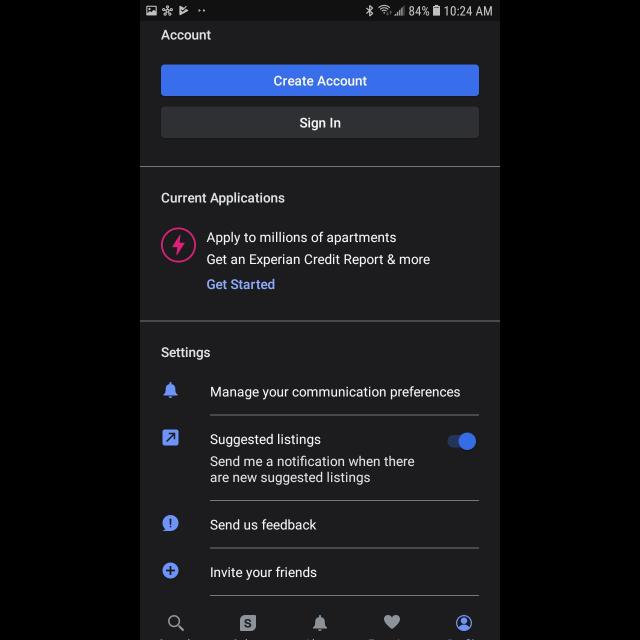icon: (168, 614, 185, 632), (456, 615, 472, 631), (384, 614, 400, 630), (163, 563, 179, 579), (163, 515, 179, 531), (163, 430, 179, 446), (313, 615, 327, 631), (164, 382, 178, 398)
image: (161, 228, 197, 264), (240, 614, 256, 632)
switch: (448, 432, 477, 450)
text: (210, 434, 414, 484), (206, 232, 430, 268), (211, 386, 461, 400), (162, 192, 284, 206), (211, 567, 317, 581), (211, 518, 317, 530), (208, 278, 274, 290), (162, 348, 210, 360), (161, 30, 211, 40)
textbutton: (161, 106, 479, 138), (161, 64, 479, 96)
uppertaskbar: (140, 1, 500, 22)
